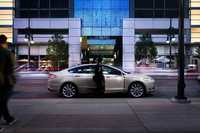car: (47, 64, 156, 97)
